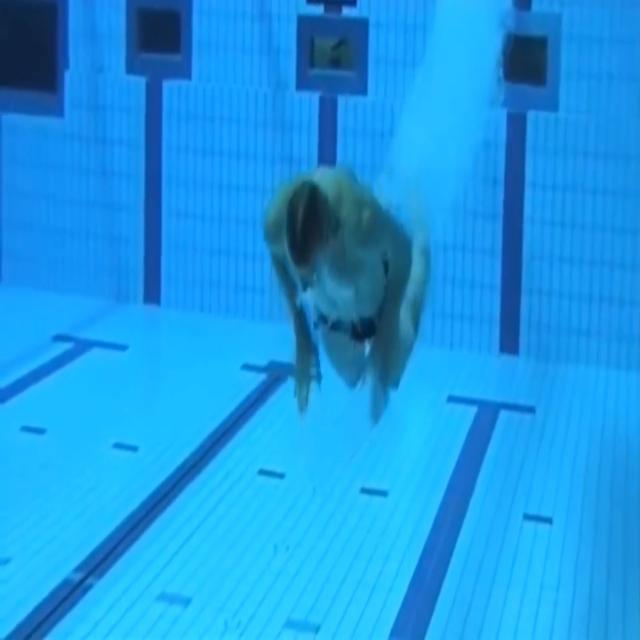Swimming: (259, 166, 430, 424)
